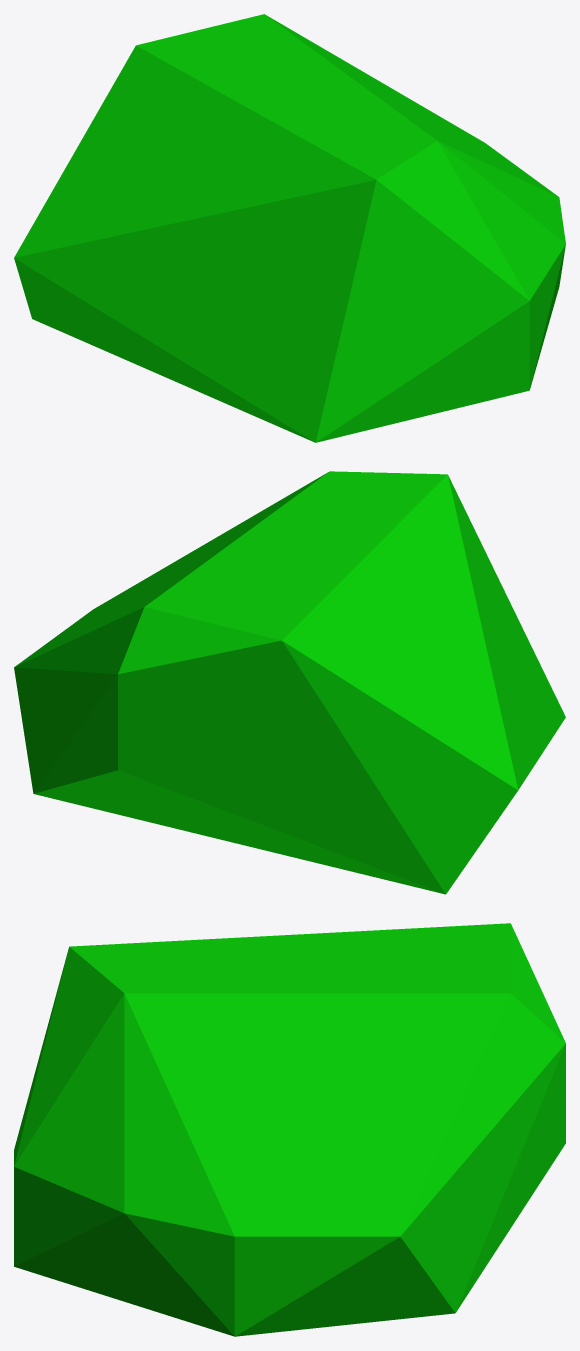
Rendered from UCX_Fanswitch.fbx.
3 views of the same model, one above another, from view 1: azimuth 30°, elevation 25°; view 2: azimuth 150°, elevation 25°; view 3: azimuth 270°, elevation 25° (orthographic). The views are drawn at different scales.
Visible parts, largest first — view 1: UCX_Fanswitch; view 2: UCX_Fanswitch; view 3: UCX_Fanswitch.
Part boxes in pixels (bbox=[...]): UCX_Fanswitch: bbox=[14, 14, 565, 442]; UCX_Fanswitch: bbox=[14, 471, 565, 894]; UCX_Fanswitch: bbox=[14, 923, 565, 1336].
Bounding box in the file's own units: 0.0499 × 0.0227 × 0.0453.
